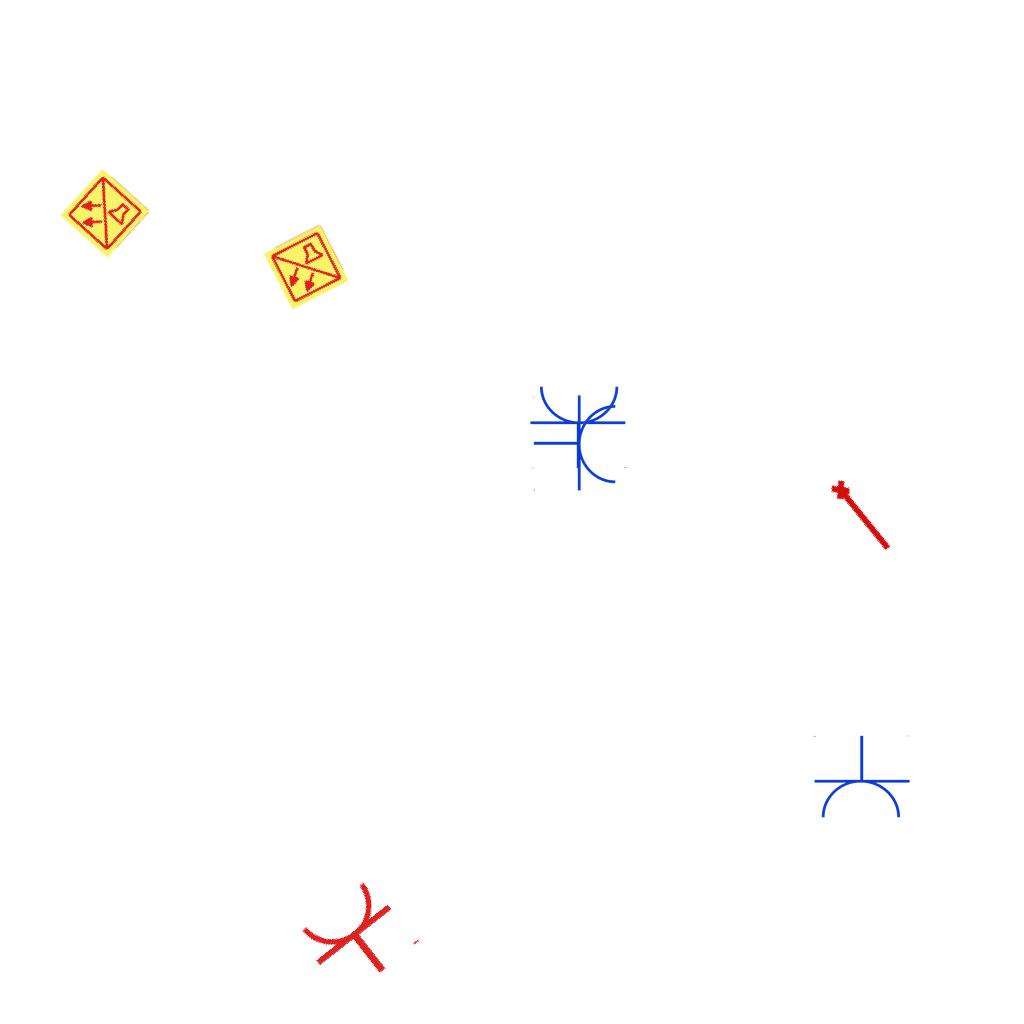ASR_Ansaugoeffnung: (826, 474, 900, 557)
OKW_Multisensormelder_(Kombination_optischer_Rauch-Kahlenmonoxid_Waerme-Melder): (58, 166, 152, 260), (261, 222, 351, 312)
Schukosteckdose_einfach: (292, 871, 425, 1003), (529, 382, 629, 469), (811, 735, 911, 822), (533, 394, 620, 494)
